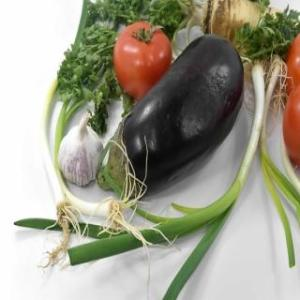eggplant: (97, 36, 244, 202)
garlic: (56, 118, 102, 186)
tomato: (114, 20, 170, 96)
